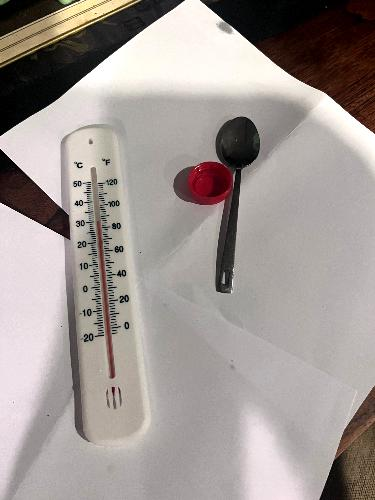thermo: (50, 127, 153, 443)
